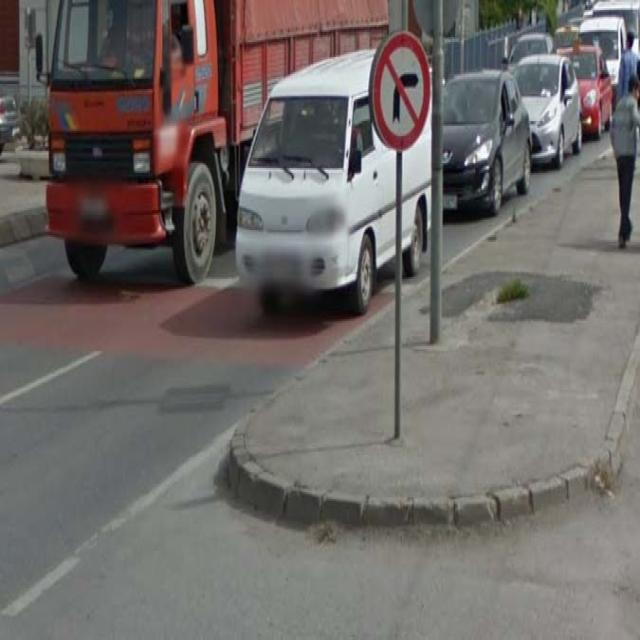sagadonulmez: (374, 30, 431, 151)
